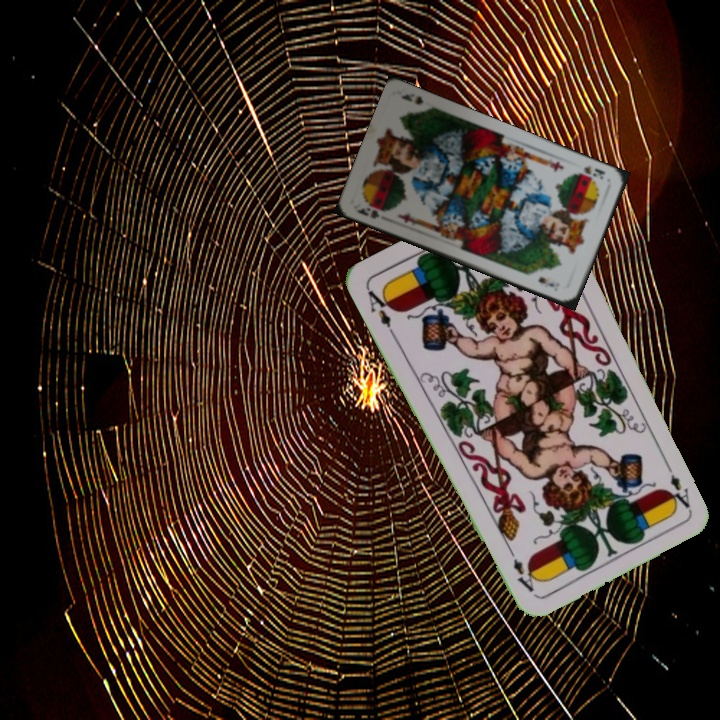EA: (363, 284, 398, 339), (660, 457, 693, 511)
SK: (353, 201, 389, 221), (580, 161, 608, 182)
